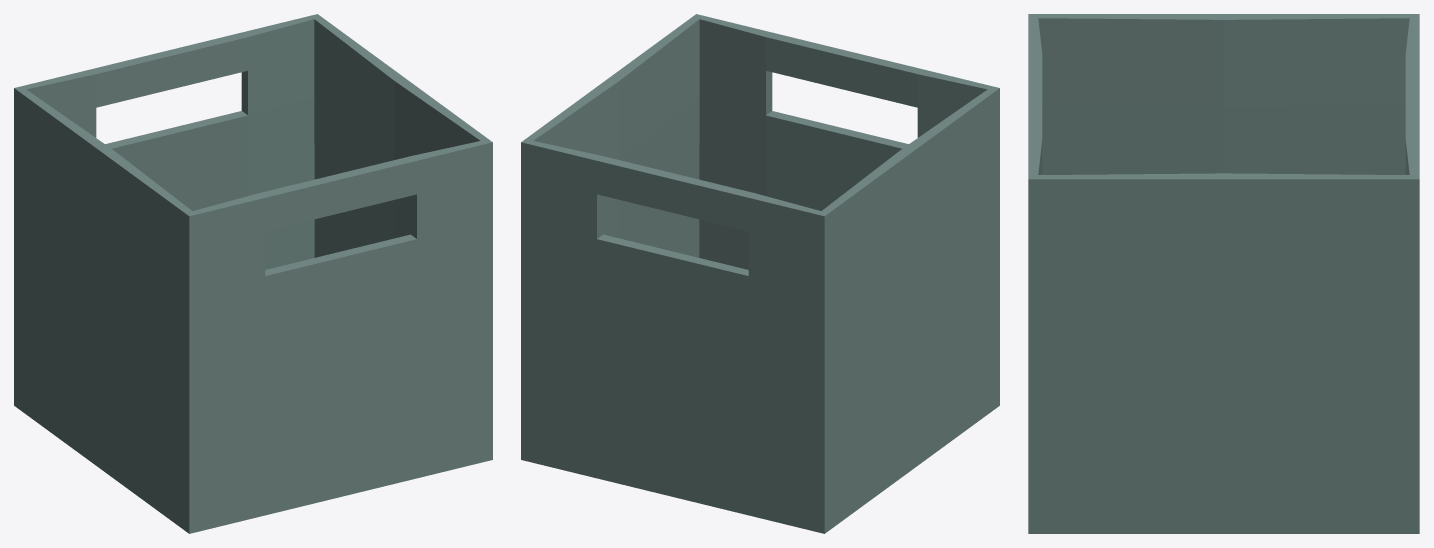
File: Small Box.fbx
3 views of the same model, side by side, from view 1: azimuth 30°, elevation 25°; view 2: azimuth 150°, elevation 25°; view 3: azimuth 270°, elevation 25° (orthographic). The views are drawn at different scales.
Parts seen in each view (by area): view 1: Cube; view 2: Cube; view 3: Cube.
Part boxes in pixels (bbox=[...]): Cube: bbox=[14, 14, 492, 533]; Cube: bbox=[521, 14, 999, 533]; Cube: bbox=[1028, 14, 1419, 533].
Size of the model in its own units: 200 by 200 by 200.
